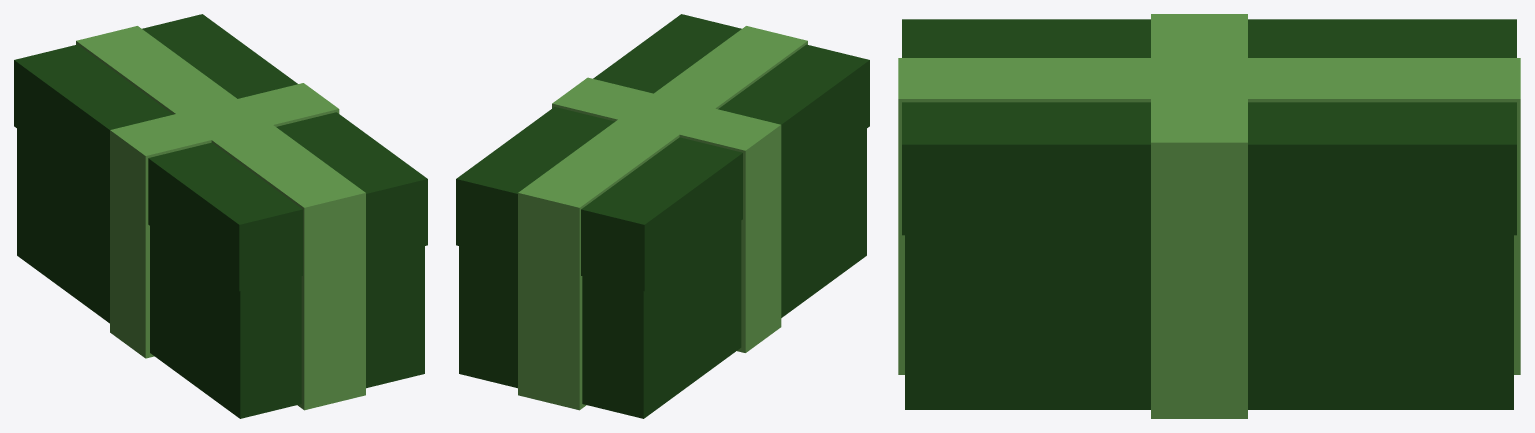
File: cadeau4.dae
3 renders of one model, left to right at view 1: azimuth 30°, elevation 25°; view 2: azimuth 150°, elevation 25°; view 3: azimuth 270°, elevation 25°, orthographic. The views are drawn at different scales.
Visible parts, largest first — view 1: Cube; view 2: Cube; view 3: Cube.
Boxes of the visible parts, x1=… form: Cube: x1=14, y1=14, x2=427, y2=418; Cube: x1=456, y1=14, x2=869, y2=418; Cube: x1=898, y1=14, x2=1520, y2=418.
Bounding box in the file's own units: 52.36 × 52.36 × 107.
